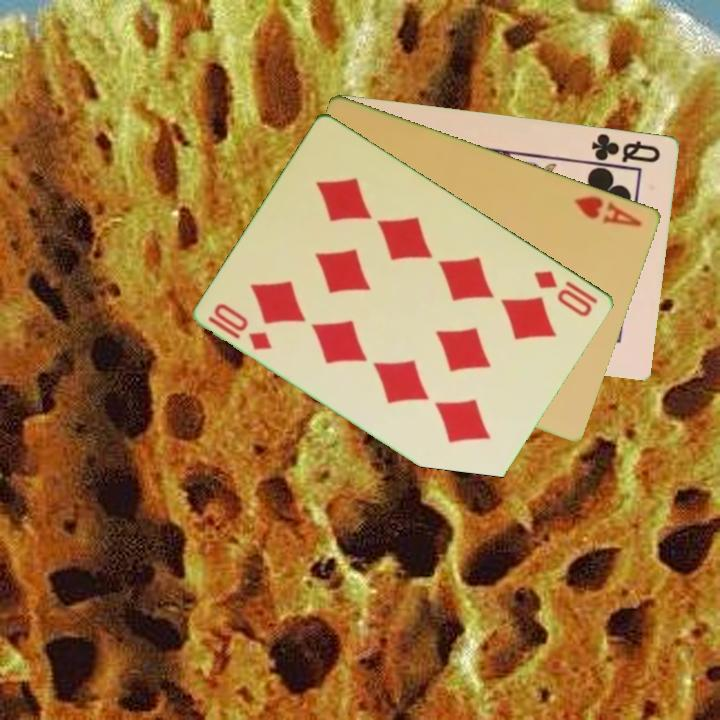10d: (205, 299, 276, 354), (531, 266, 602, 320)
Ah: (571, 192, 646, 230)
Qc: (584, 129, 664, 170)
